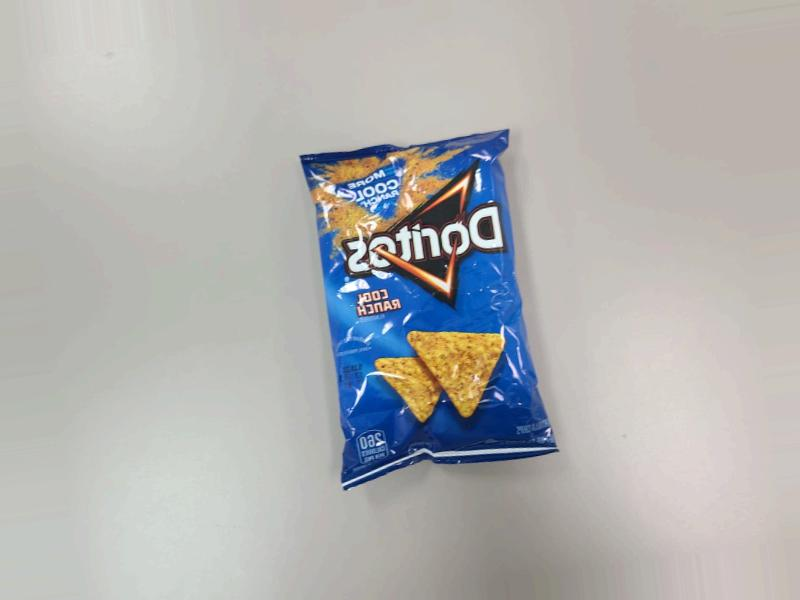doritos: (268, 119, 527, 493)
